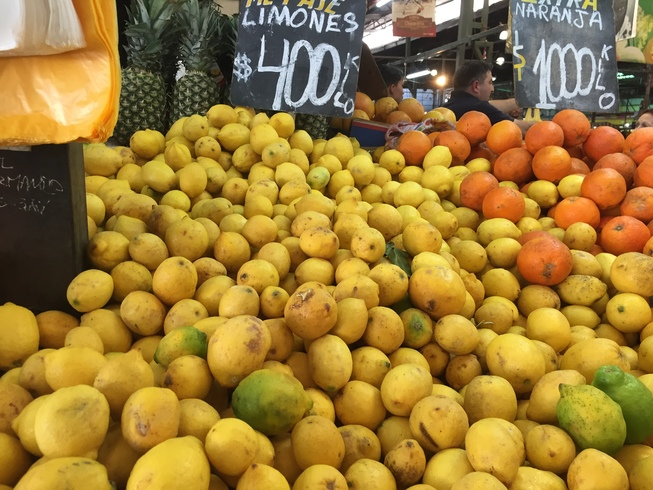precio: (229, 1, 370, 105), (514, 1, 617, 108)
